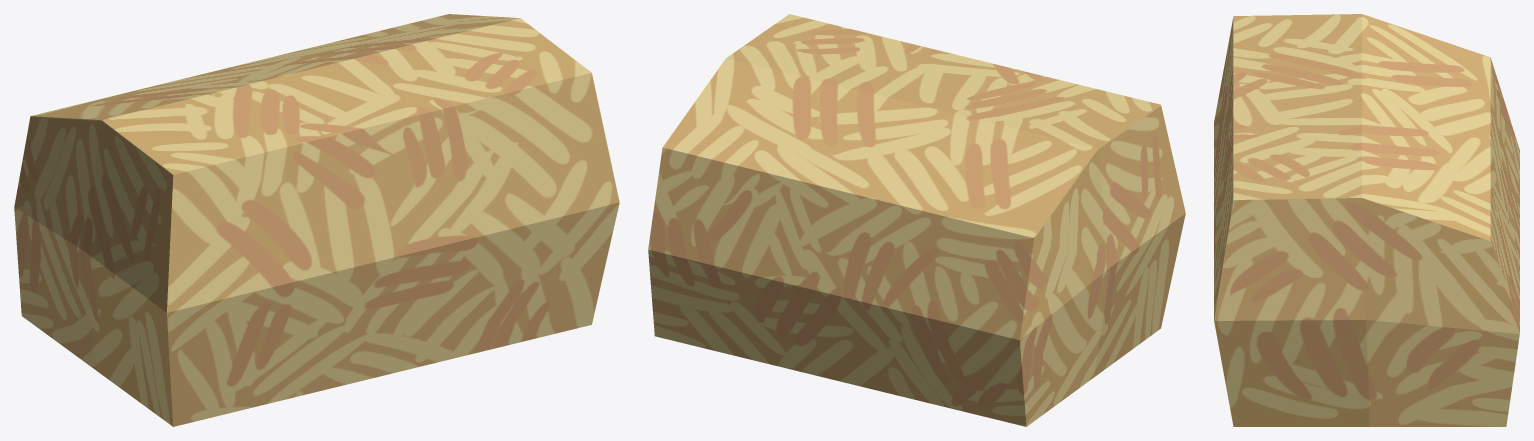
Rendered from hay.fbx.
3 views of the same model, side by side, from view 1: azimuth 30°, elevation 25°; view 2: azimuth 150°, elevation 25°; view 3: azimuth 270°, elevation 25° (orthographic). The views are drawn at different scales.
Visible parts, largest first — view 1: Cube; view 2: Cube; view 3: Cube.
Part boxes in pixels (<box>): Cube: <box>14,14,619,426</box>; Cube: <box>648,14,1185,426</box>; Cube: <box>1214,14,1519,426</box>.
Size of the model in its own units: 345 by 185 by 224.
